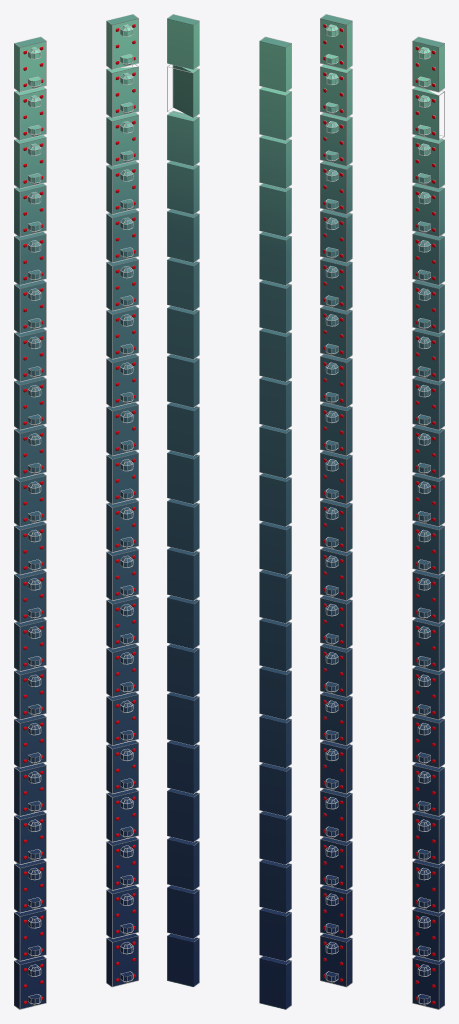
The model's file is bayStations.fbx.
3 renders of one model, left to right at view 1: azimuth 30°, elevation 25°; view 2: azimuth 150°, elevation 25°; view 3: azimuth 330°, elevation 25°, orthographic.
Visible parts, largest first — view 1: HousingBays_Gradient, HousingBays_Grid; view 2: HousingBays_Gradient, HousingBays_Grid; view 3: HousingBays_Gradient, HousingBays_Grid.
Boxes of the visible parts, left/top/right/bottom form: HousingBays_Gradient: left=14, top=14, right=138, bottom=1008; HousingBays_Grid: left=14, top=14, right=138, bottom=1009; HousingBays_Gradient: left=167, top=14, right=291, bottom=1009; HousingBays_Grid: left=167, top=14, right=291, bottom=1009; HousingBays_Gradient: left=320, top=14, right=444, bottom=1008; HousingBays_Grid: left=320, top=14, right=444, bottom=1009.
Size of the model in its own units: 904 by 6979 by 133.
